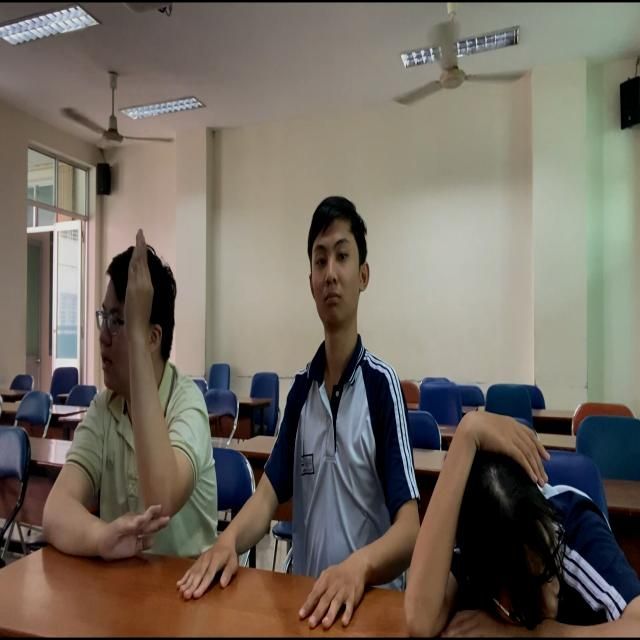raise_hand: (40, 229, 214, 565)
sleep: (398, 412, 633, 640)
